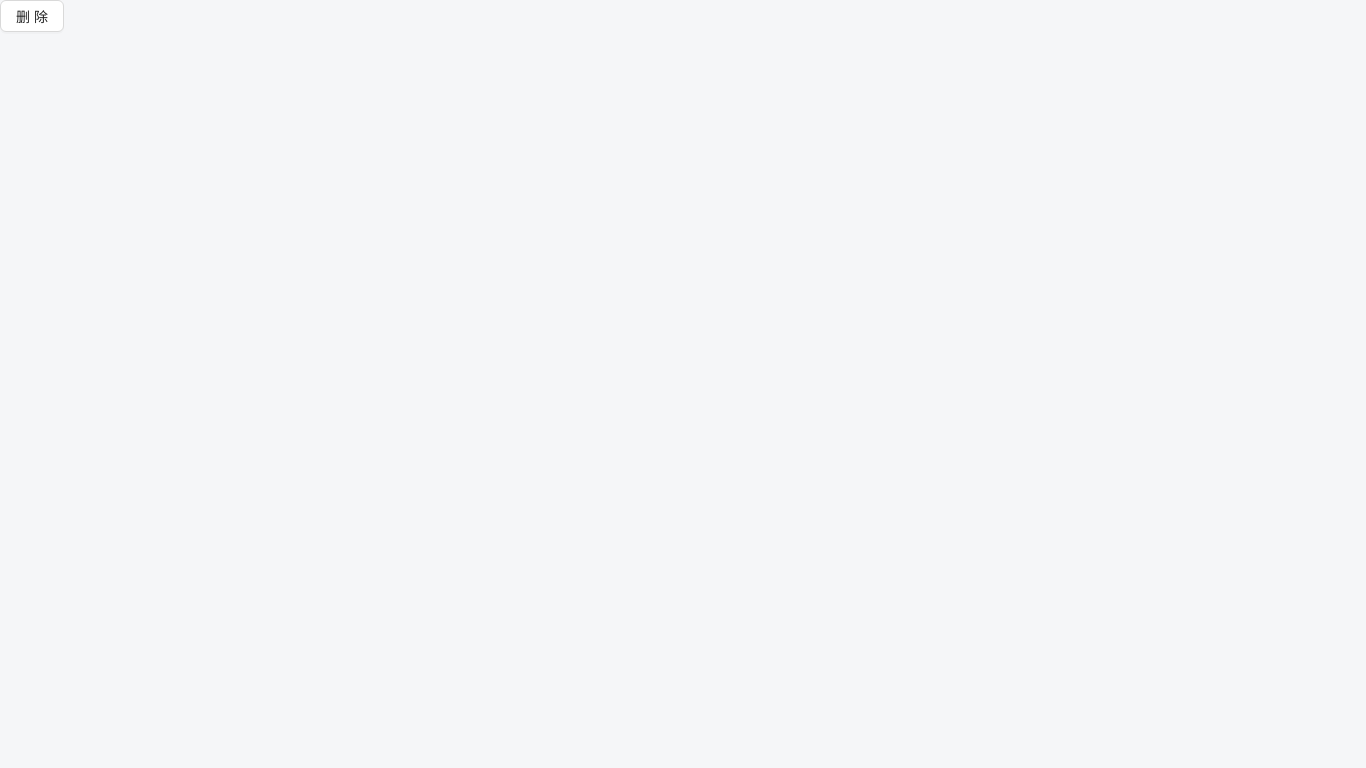
Test case: ConfirmAction › 取消不触发，确认触发一次
Later steps or results of the test are not shown.
What coordinates should you click on to do the following:
click the button "删 除"
I would click on:
 (32, 16)
Its box is left=0, top=0, right=64, bottom=32.
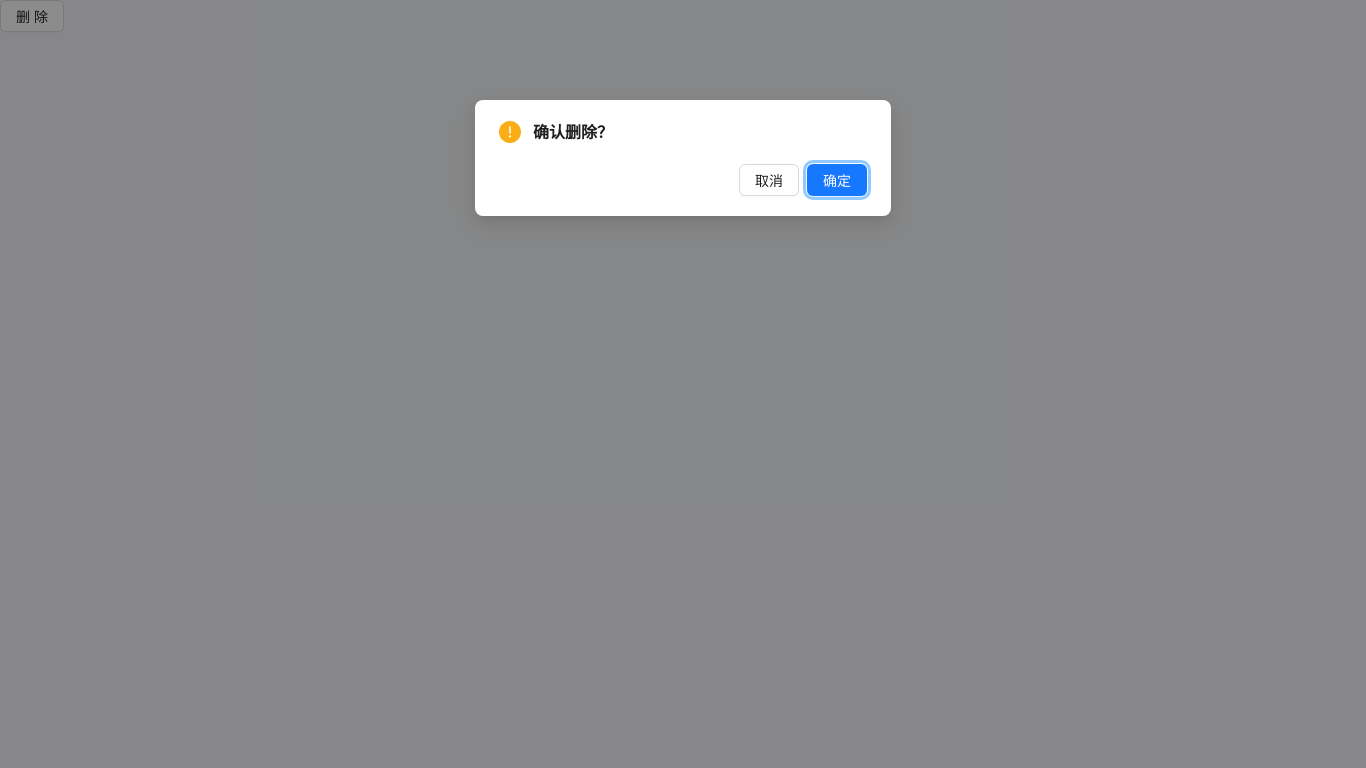
expect the button "取消" is shown: met
What coordinates should you click on to do the following:
click the button "取消"
I would click on:
 (769, 180)
Its box is left=739, top=164, right=799, bottom=196.
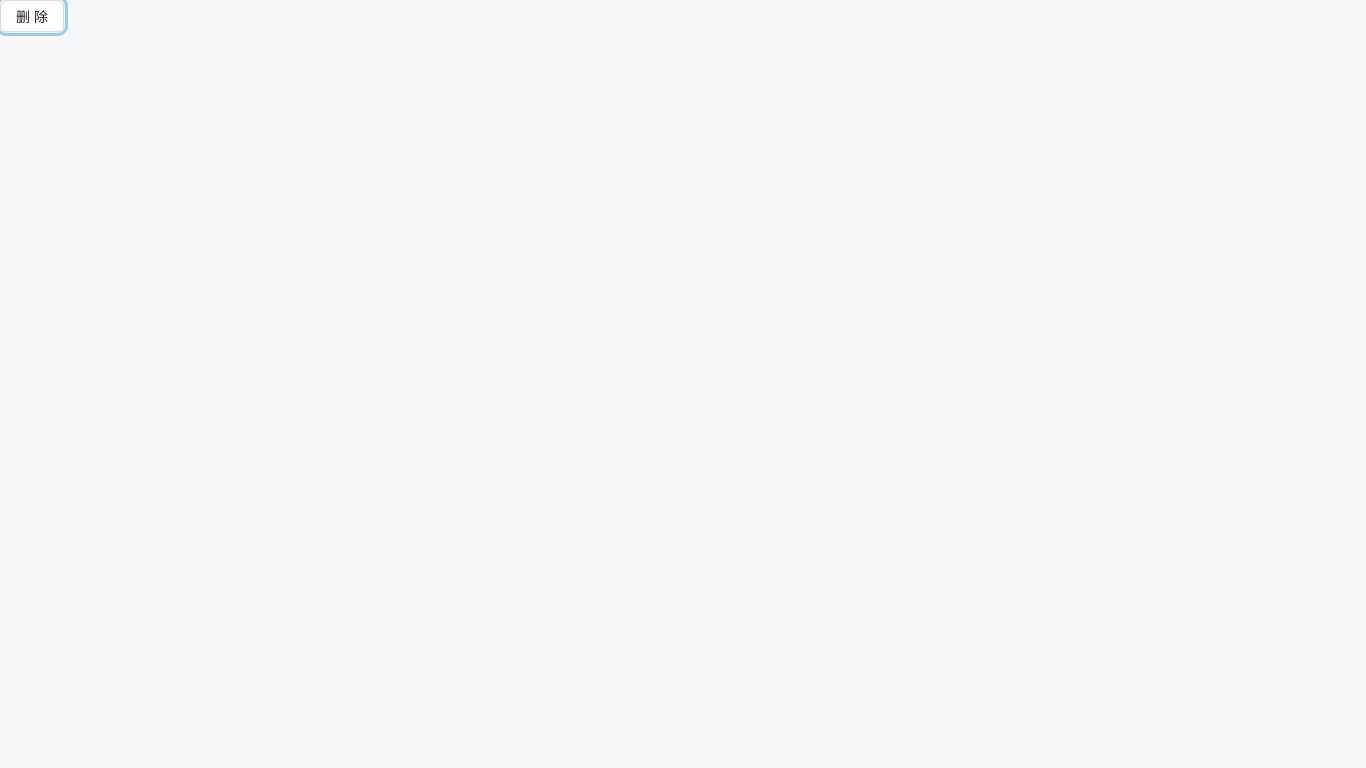
What coordinates should you click on to do the following:
click the button "删 除"
I would click on:
 (32, 16)
Its box is left=0, top=0, right=64, bottom=32.
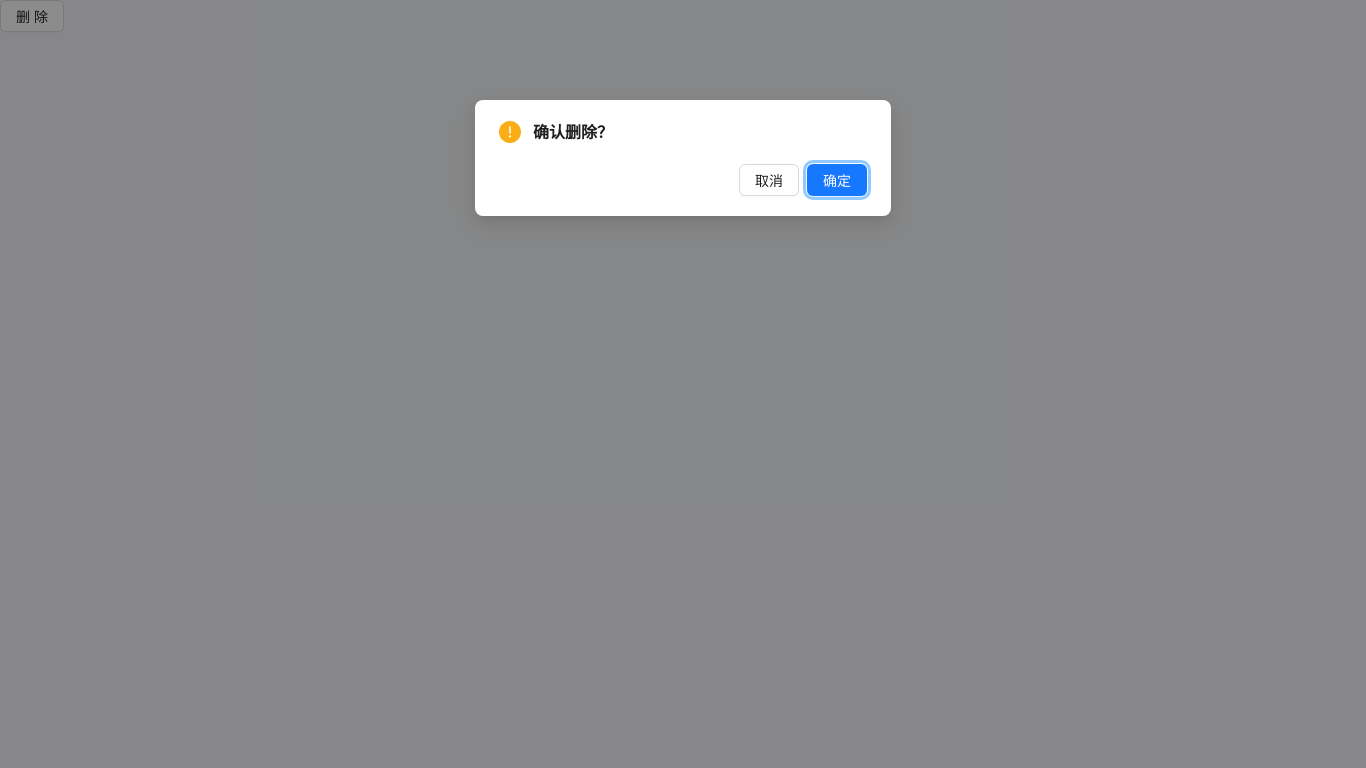
expect the button "确定" is shown: met, box left=807, top=164, right=867, bottom=196
